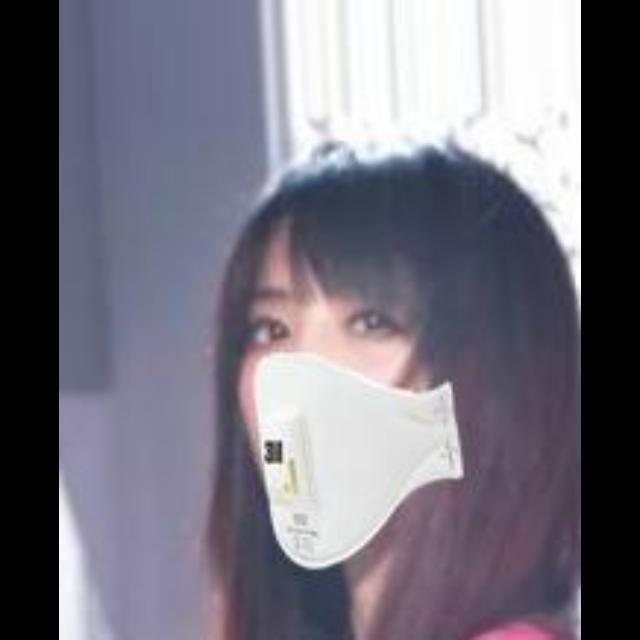suspicion: (232, 178, 506, 584)
